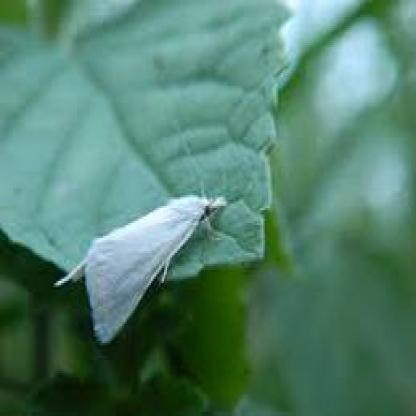stem-borer: (50, 189, 229, 350)
